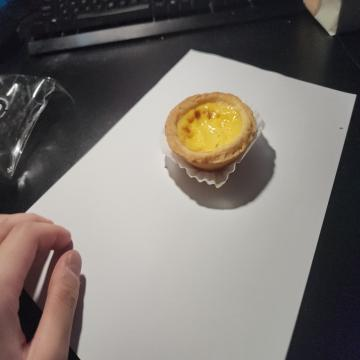EggTart: (166, 91, 258, 172)
